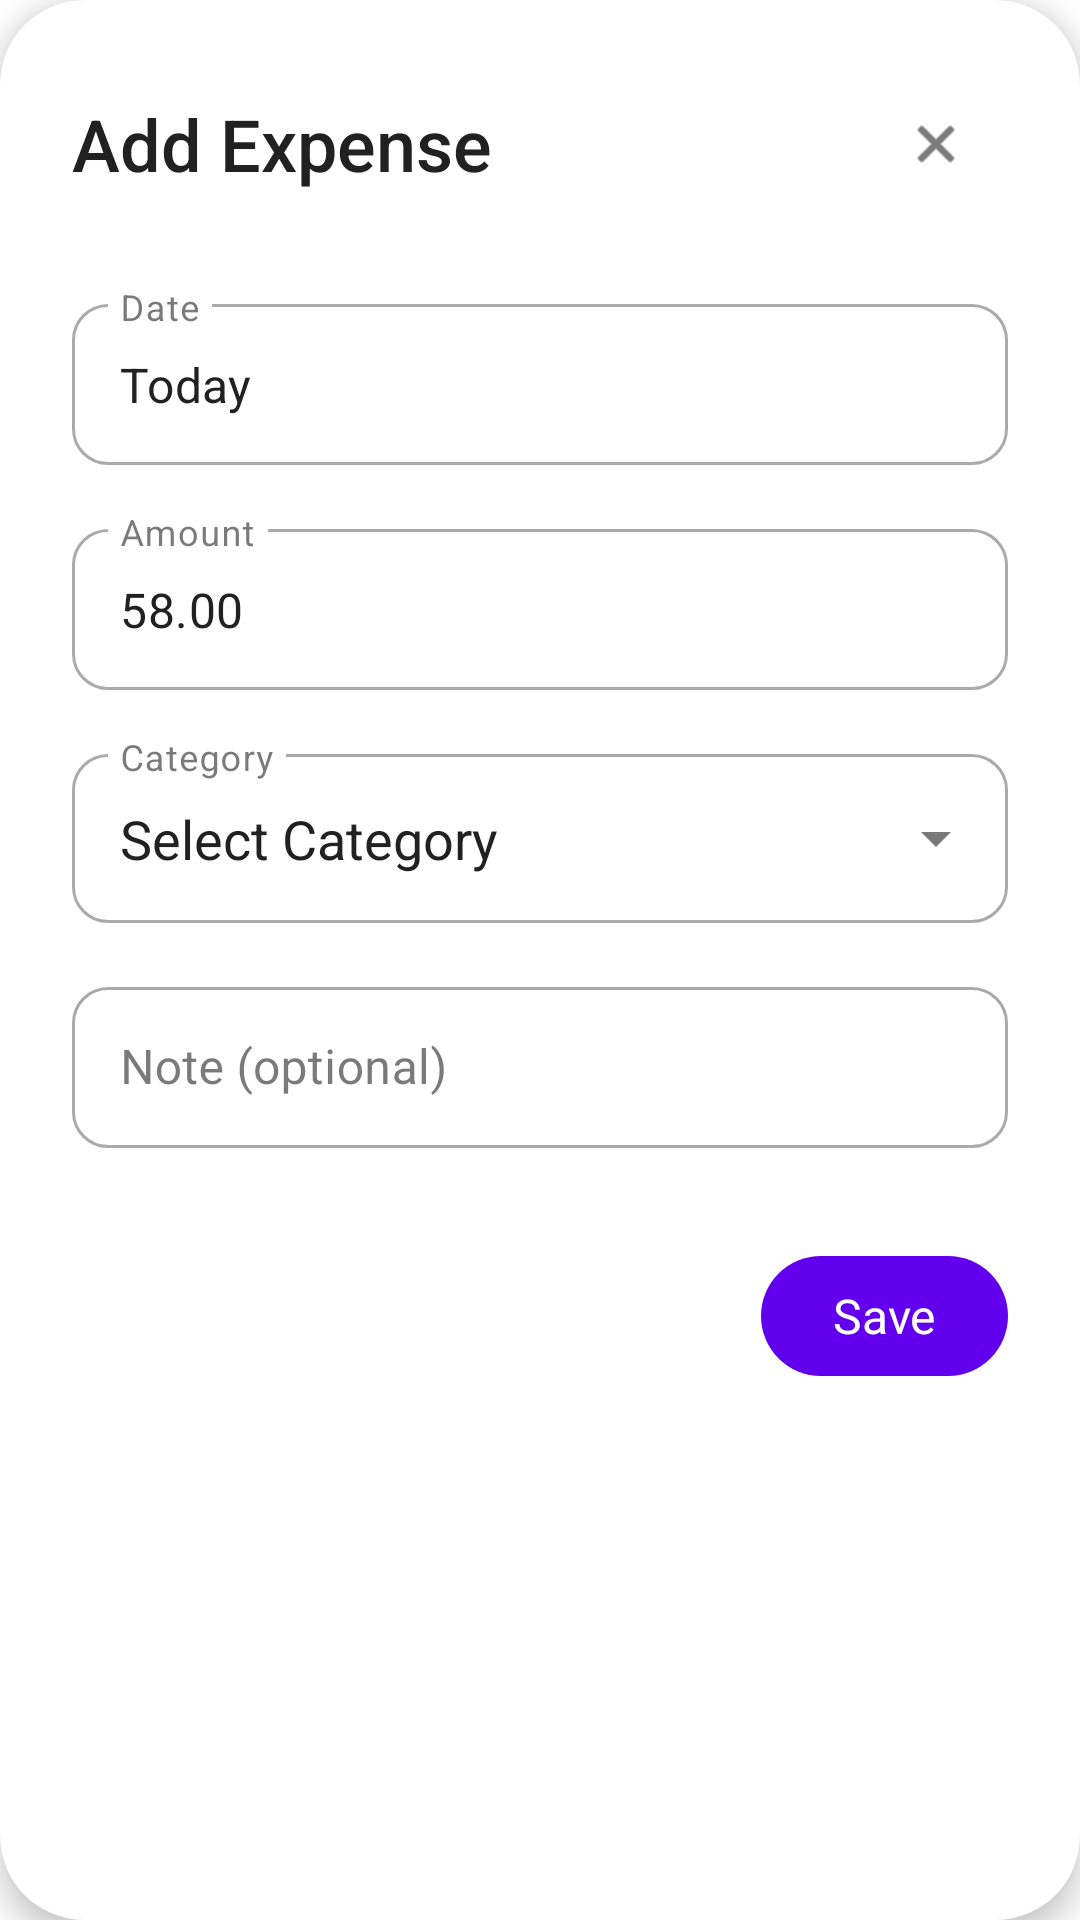

Point at icon controls on the screen. Image size 1080px x 1920px, points as [x,y].
close clear cancel: [936,144]
